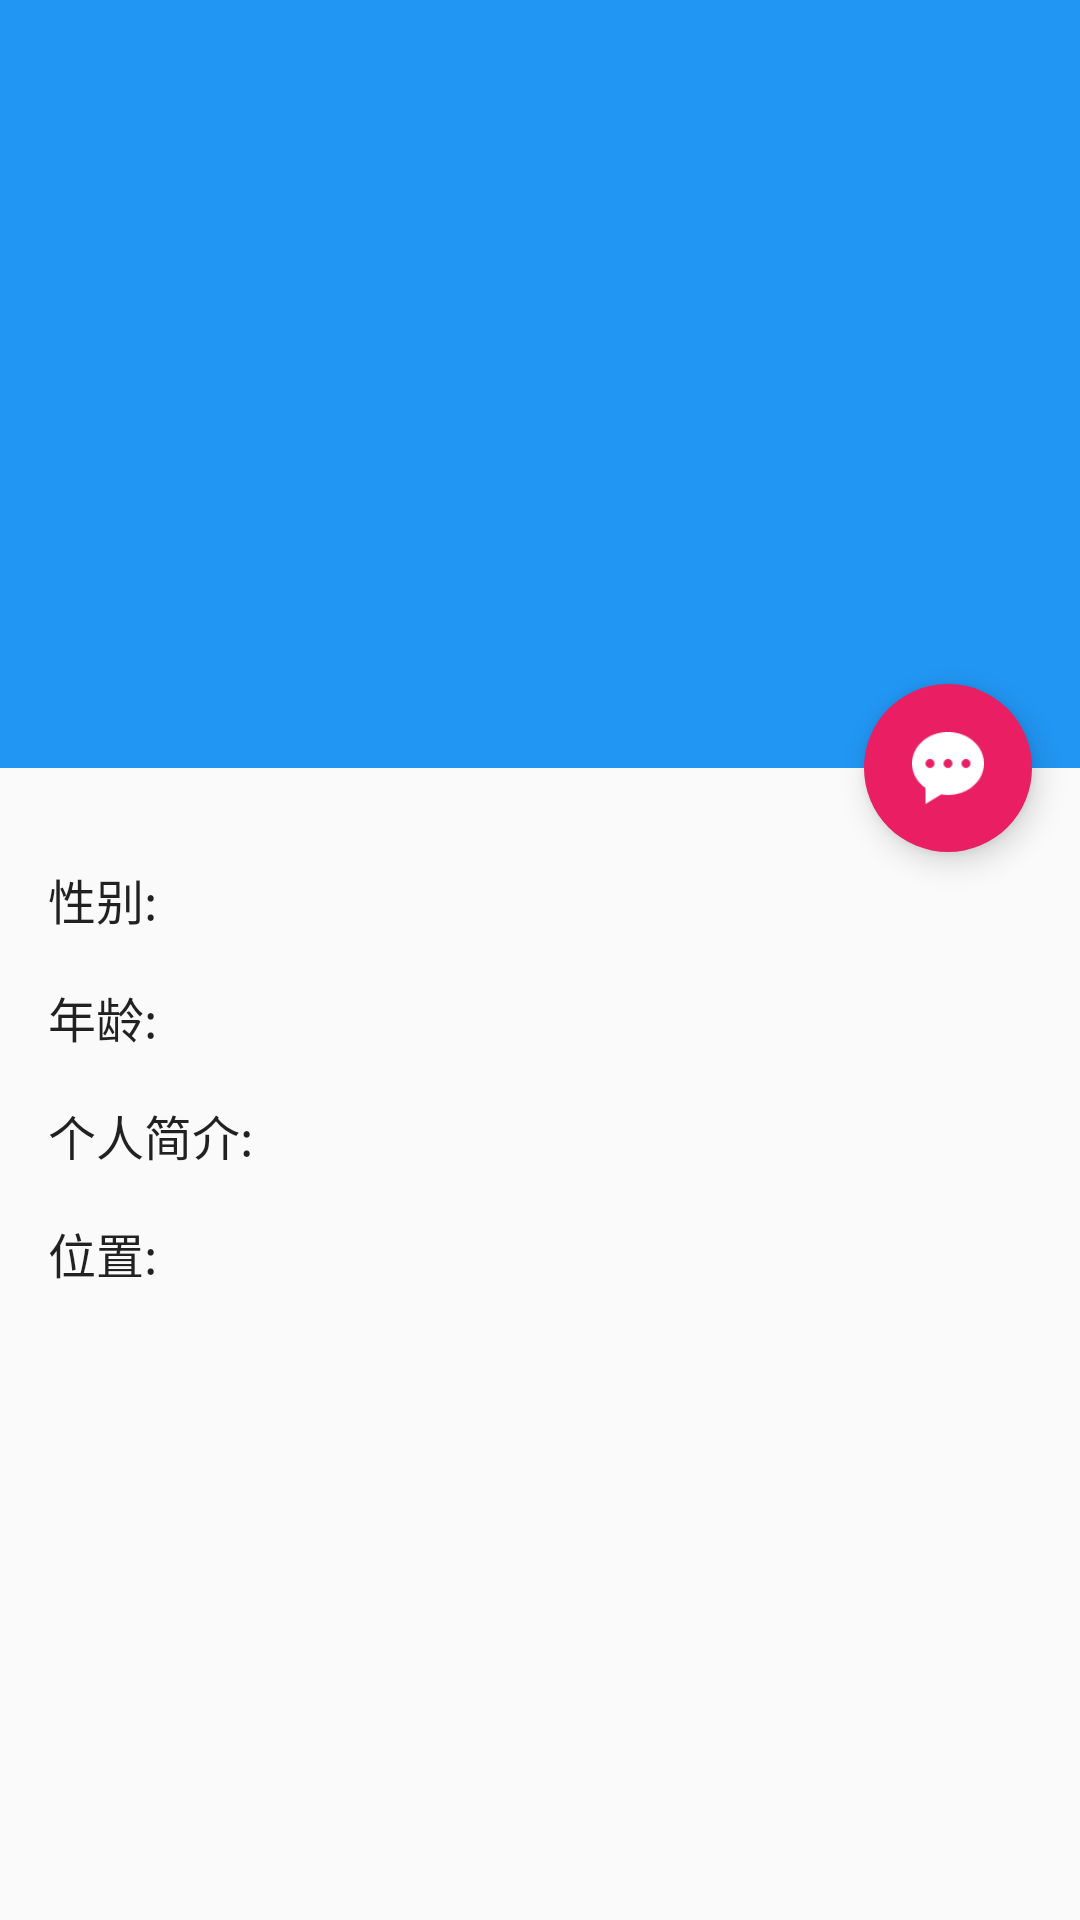

Icon click points for this 1080px x 1920px phone screenshot, format (x,y):
chat: (948,768)
